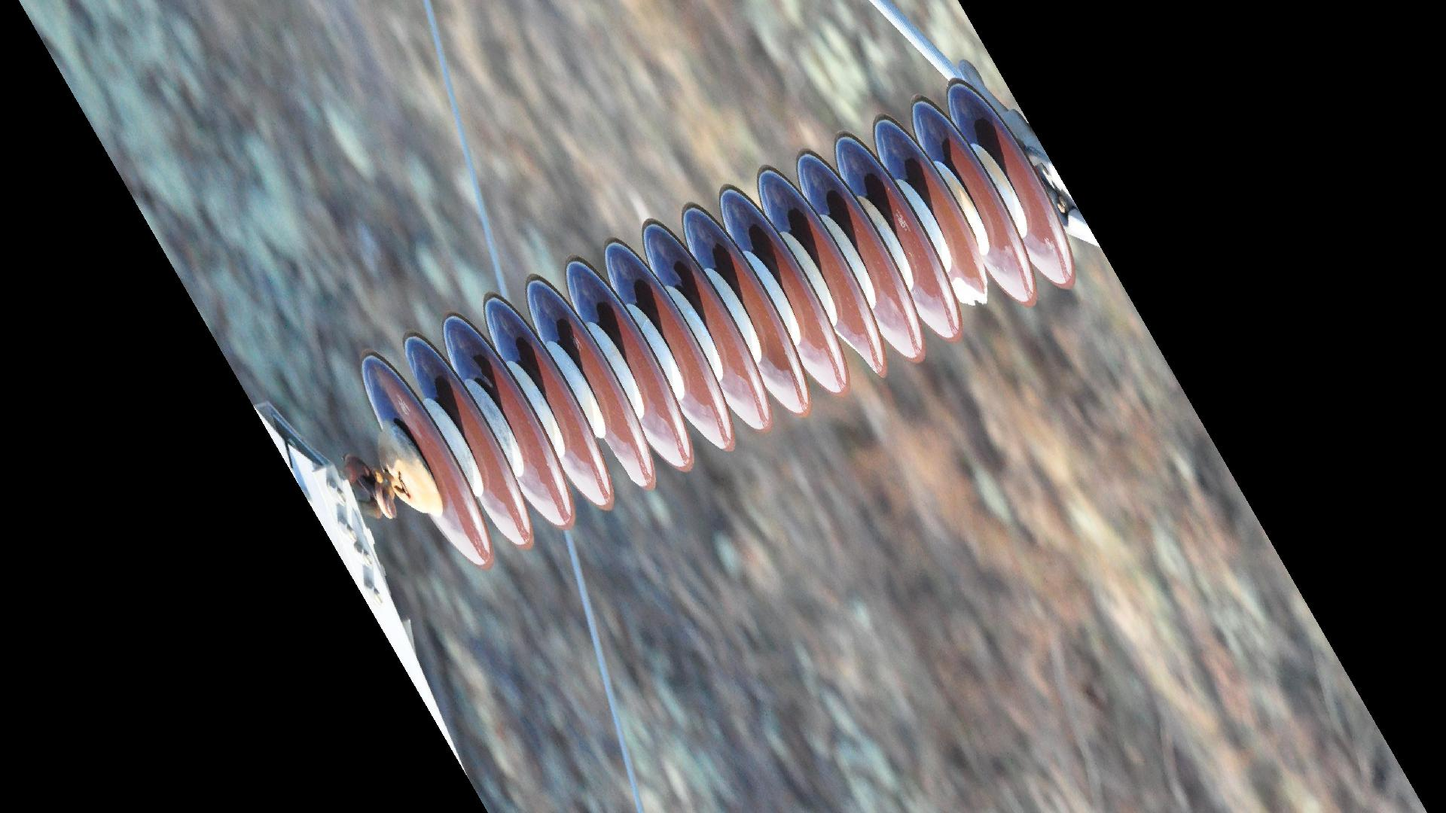insulator: (355, 75, 1086, 574)
insulator_breakage: (944, 268, 993, 311)
